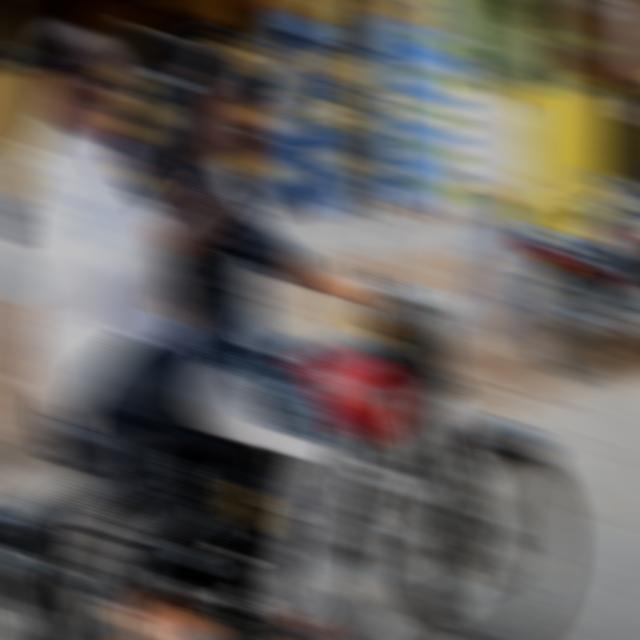Without Helmet: (34, 10, 132, 159), (185, 33, 273, 169)
